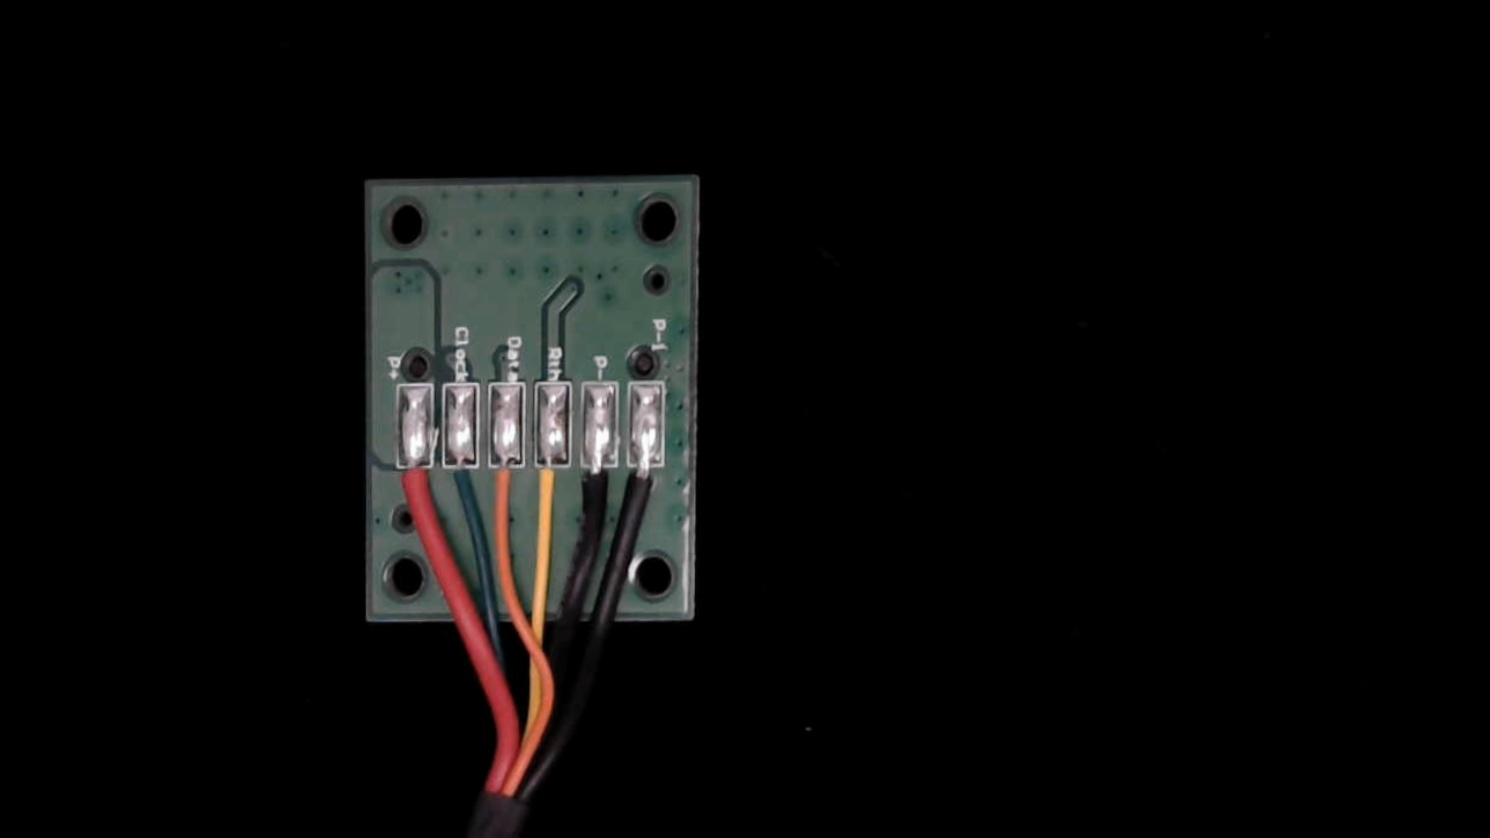Black: (577, 441, 618, 539)
Black1: (627, 437, 667, 527)
Green: (442, 442, 482, 525)
Orange: (484, 439, 525, 523)
Red: (394, 446, 436, 529)
Yellow: (532, 440, 574, 539)
